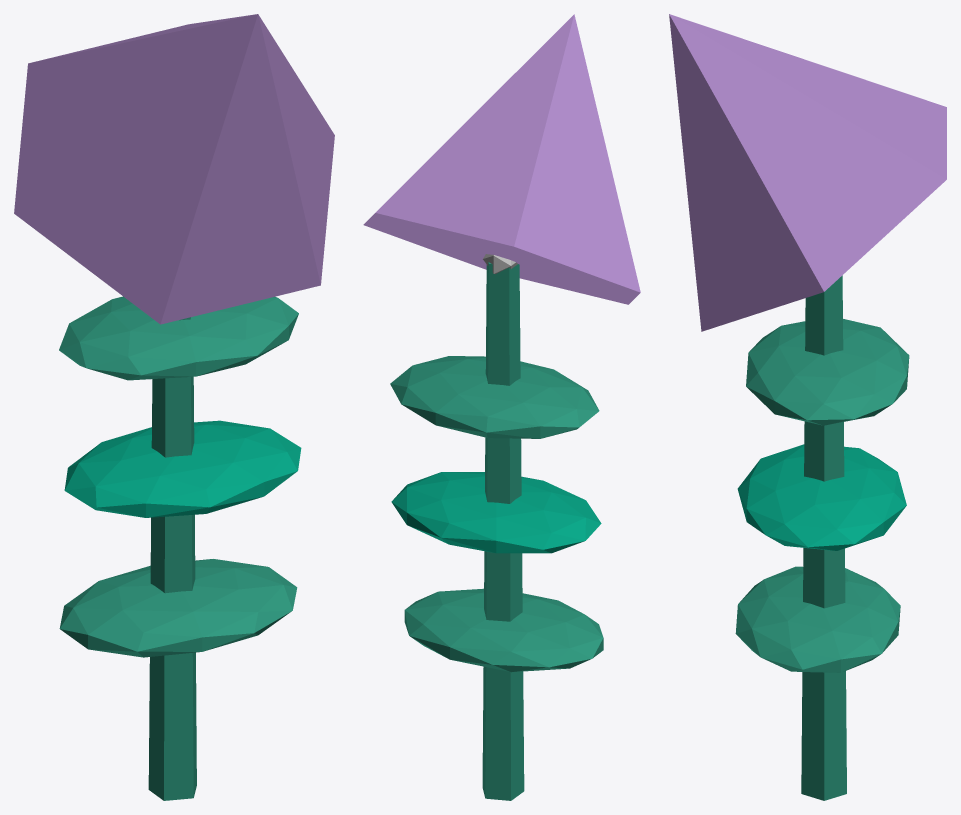
File: ruellia-simplex.glb
3 views of the same model, side by side, from view 1: azimuth 30°, elevation 25°; view 2: azimuth 150°, elevation 25°; view 3: azimuth 270°, elevation 25° (orthographic). The views are drawn at different scales.
Parts seen in each view (by area): view 1: trumpet, leaf0, leaf1, leaf2, stem; view 2: trumpet, stem, leaf2, leaf1, leaf0; view 3: trumpet, stem, leaf2, leaf1, leaf0.
Boxes of the visible parts, left/top/right/bottom form: trumpet: left=14, top=14, right=334, bottom=324; leaf0: left=59, top=559, right=297, bottom=657; leaf1: left=64, top=420, right=301, bottom=517; leaf2: left=59, top=296, right=298, bottom=380; stem: left=148, top=317, right=196, bottom=800; trumpet: left=363, top=14, right=640, bottom=304; stem: left=482, top=262, right=524, bottom=800; leaf2: left=390, top=356, right=599, bottom=438; leaf1: left=391, top=472, right=601, bottom=553; leaf0: left=404, top=588, right=603, bottom=672; trumpet: left=669, top=14, right=946, bottom=331; stem: left=801, top=275, right=846, bottom=800; leaf2: left=746, top=319, right=909, bottom=425; leaf1: left=737, top=444, right=906, bottom=550; leaf0: left=735, top=566, right=900, bottom=672.
Size of the model in its own units: 0.2 by 0.4992 by 0.1618.
